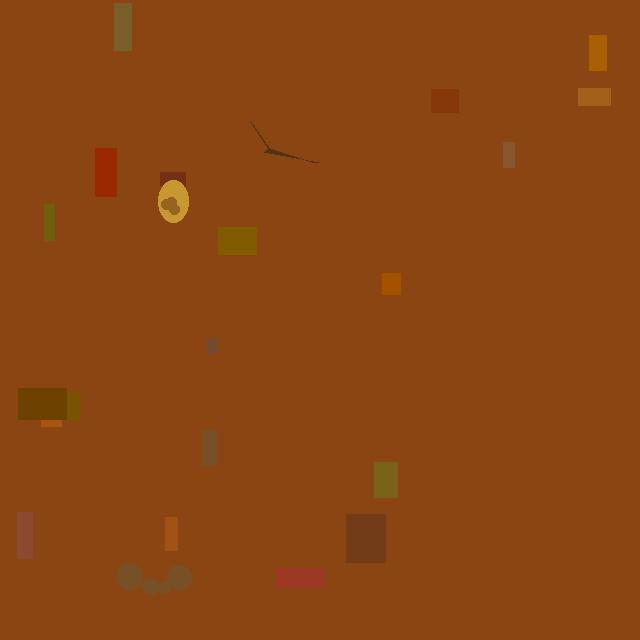damaged_crop: (158, 180, 188, 223)
disease: (247, 116, 325, 180)
pest_damage: (115, 557, 195, 600)
